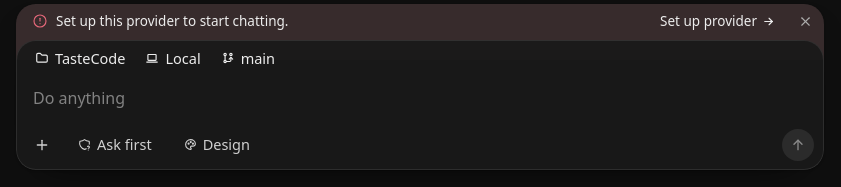
Test: Composer draft state › opens feedback for /feedback instead of sending it, even when no provider can send
The width and height of the screenshot is (841, 187).
Type "/feedback the export button does nothing" into the text box with placeholder "Do anything" at (420, 100), box [17,76,823,124]
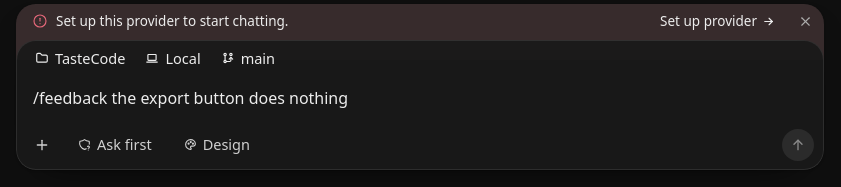
Press Enter in the text box with placeholder "Do anything", box [17,76,823,124]
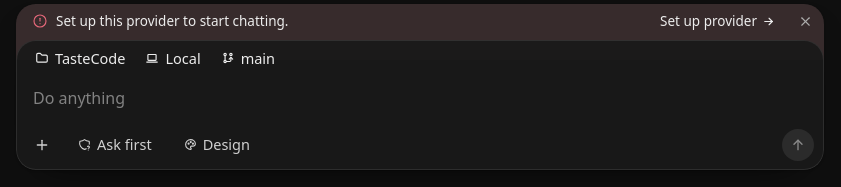
Expected: the text box with placeholder "Do anything" is empty, [17,76,823,124]
